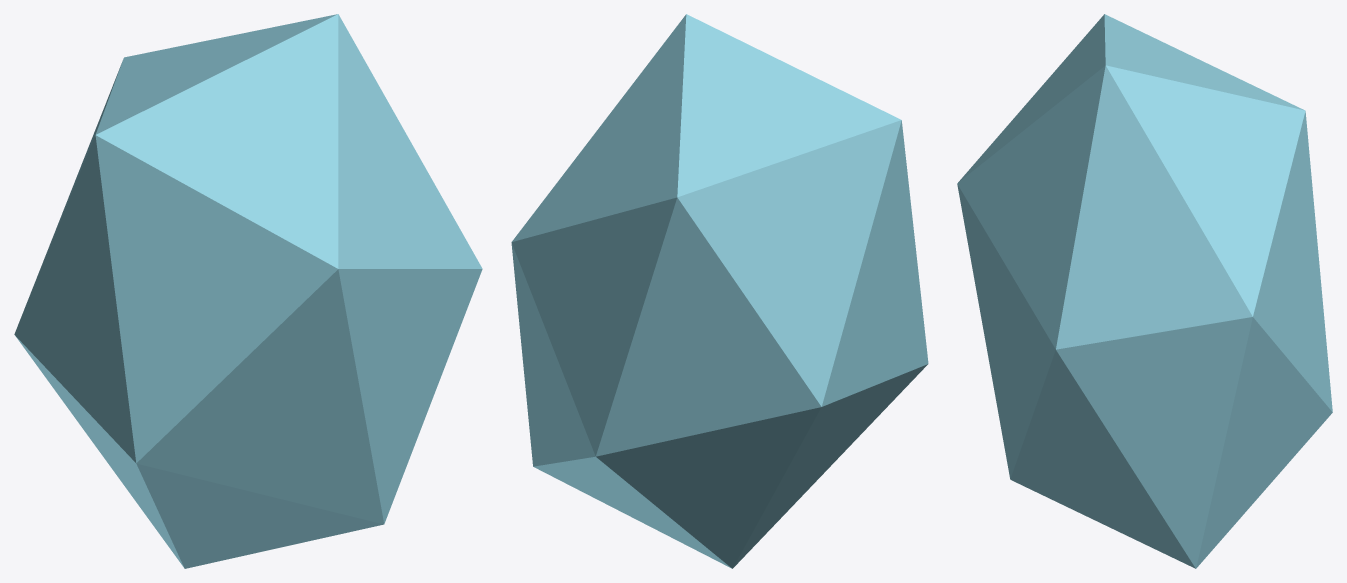
File: deco_amber.obj
3 renders of one model, left to right at view 1: azimuth 30°, elevation 25°; view 2: azimuth 150°, elevation 25°; view 3: azimuth 270°, elevation 25°, orthographic. The views are drawn at different scales.
Visible parts, largest first — view 1: deco_amber; view 2: deco_amber; view 3: deco_amber.
Part boxes in pixels (x1,y1,x2,y2): deco_amber: (14,14,482,568); deco_amber: (511,14,928,568); deco_amber: (957,14,1332,568).
Size of the model in its own units: 0.033 by 0.0488 by 0.033.
1 material, 1 textured.
